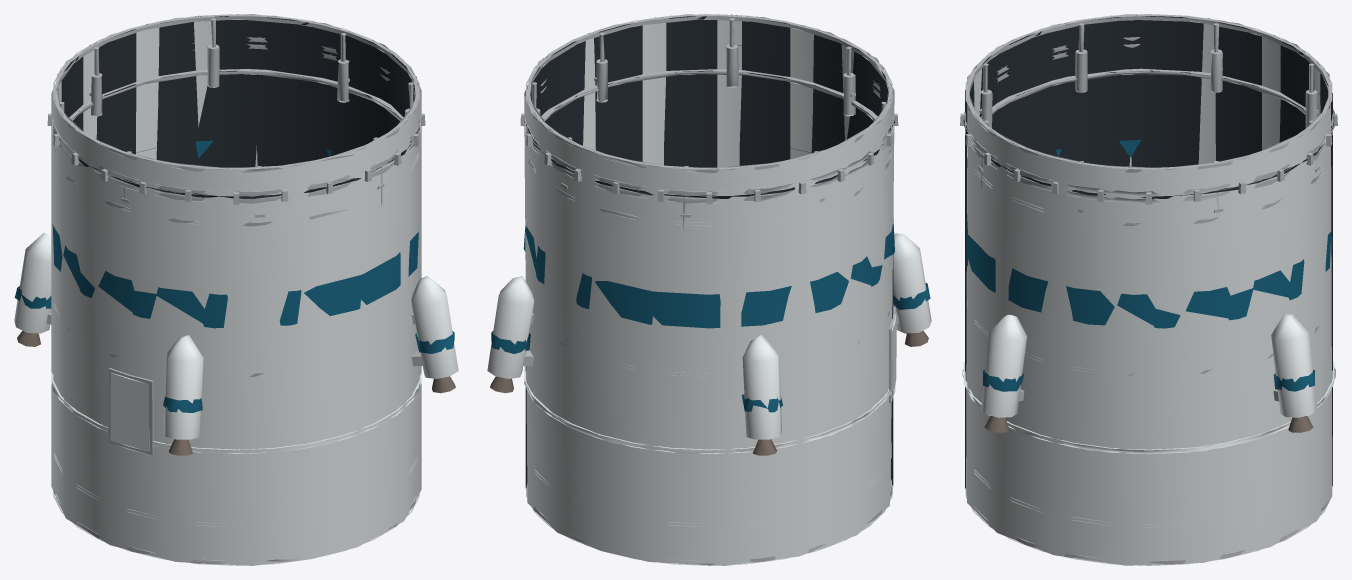
File: interstage_pyro_d54.glb
The picture shows the model from 3 angles, left to right: view 1: azimuth 30°, elevation 25°; view 2: azimuth 150°, elevation 25°; view 3: azimuth 270°, elevation 25°; orthographic projection.
Visible parts, largest first — view 1: interstage_pyro_d54_mesh; view 2: interstage_pyro_d54_mesh; view 3: interstage_pyro_d54_mesh.
Part boxes in pixels (x1,y1,x2,y2): interstage_pyro_d54_mesh: (14, 14, 458, 565); interstage_pyro_d54_mesh: (487, 14, 931, 565); interstage_pyro_d54_mesh: (960, 14, 1337, 565).
Bounding box in the file's own units: 5.53 × 6.4 × 5.53.
